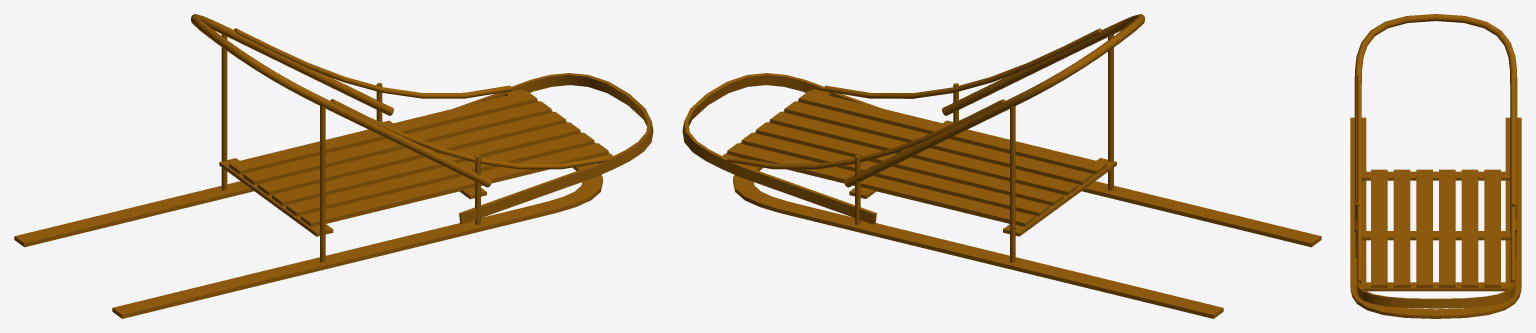
File: sled.FBX
The picture shows the model from 3 angles, left to right: view 1: azimuth 30°, elevation 25°; view 2: azimuth 150°, elevation 25°; view 3: azimuth 270°, elevation 25°; orthographic projection. The views are drawn at different scales.
Visible parts, largest first — view 1: Box04; view 2: Box04; view 3: Box04.
Boxes of the visible parts, left/top/right/bottom form: Box04: left=14, top=14, right=653, bottom=318; Box04: left=682, top=14, right=1321, bottom=318; Box04: left=1350, top=14, right=1521, bottom=318.
Size of what is drawn, in the model's own units: 332 by 117 by 110.
